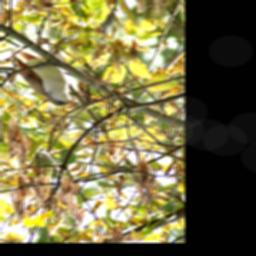Cuckoo: (3, 52, 81, 112)
